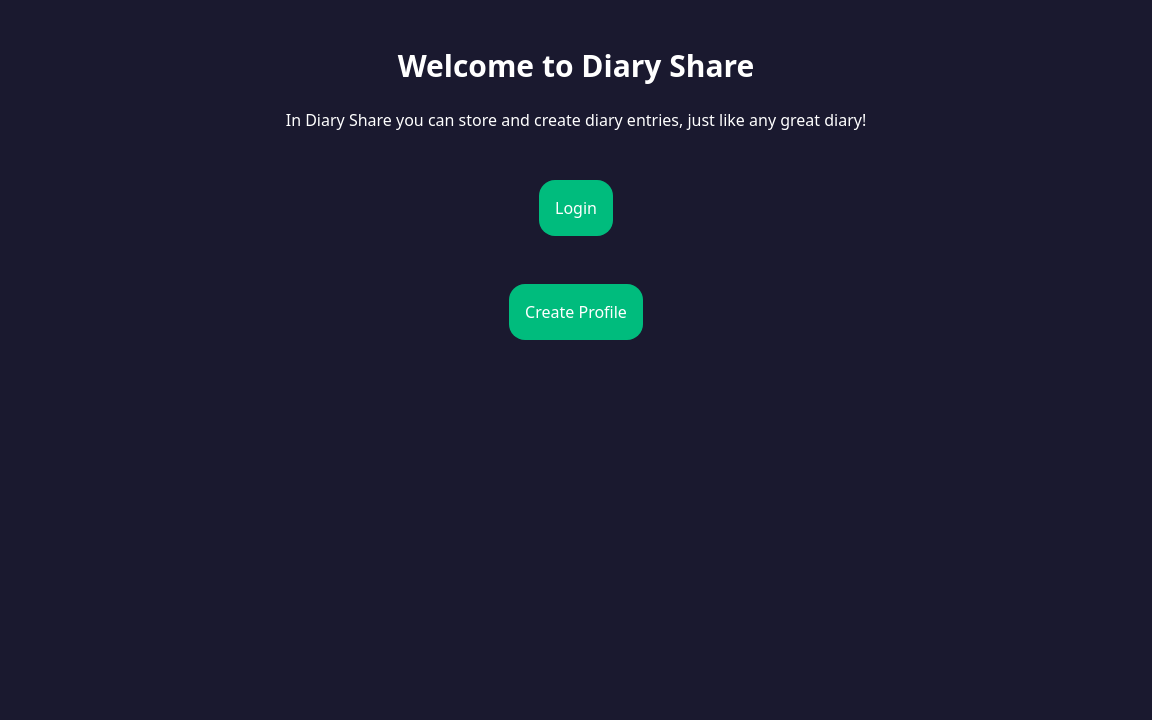
Test: create profile page › renders correct elements
The image size is (1152, 720).
Click the link with test id "cypress-createProfile-link": (521, 272) [509, 261, 643, 340]
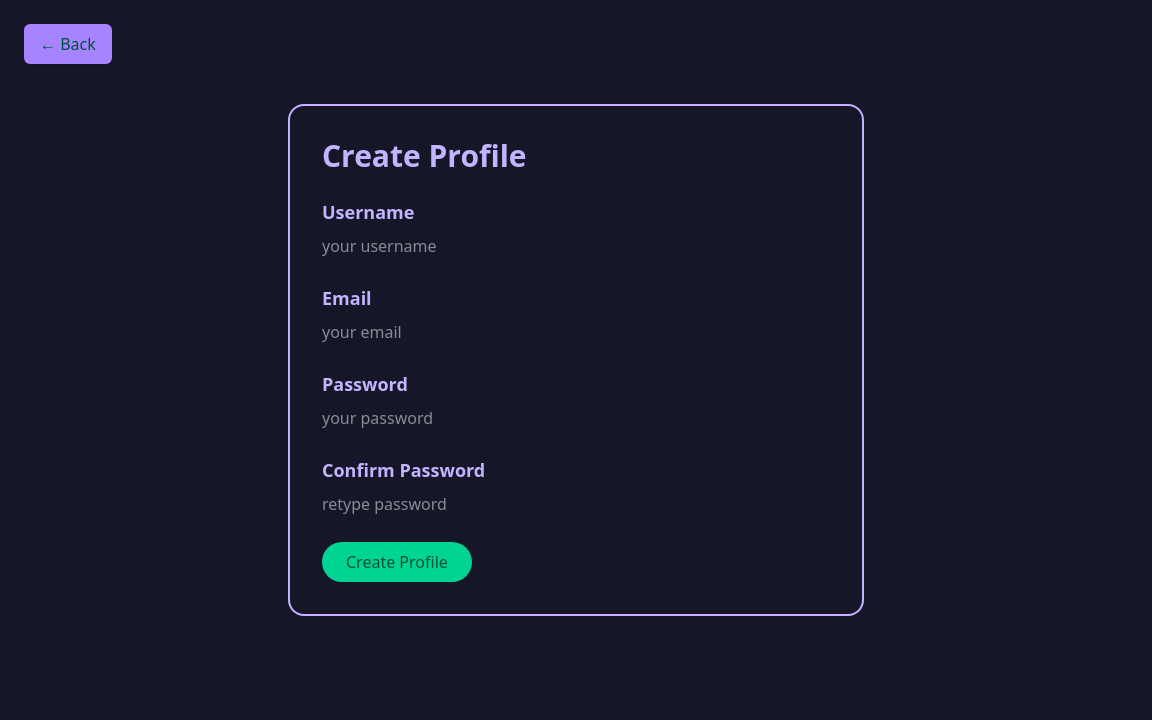
Expected: the heading with test id "cypress-title" reads "Create Profile", [322, 135, 527, 176]
Expected: the field with test id "cypress-usernameForm" is empty, [322, 234, 830, 260]
Expected: the field with test id "cypress-emailForm" is empty, [322, 320, 830, 346]
